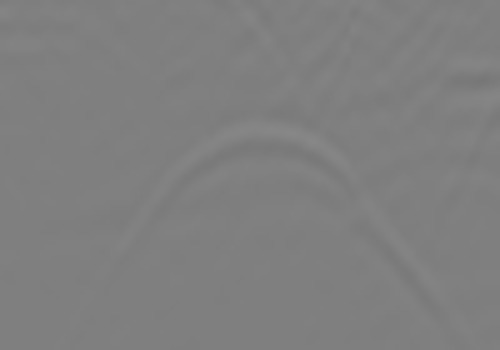hyperbola: (103, 121, 438, 308)
